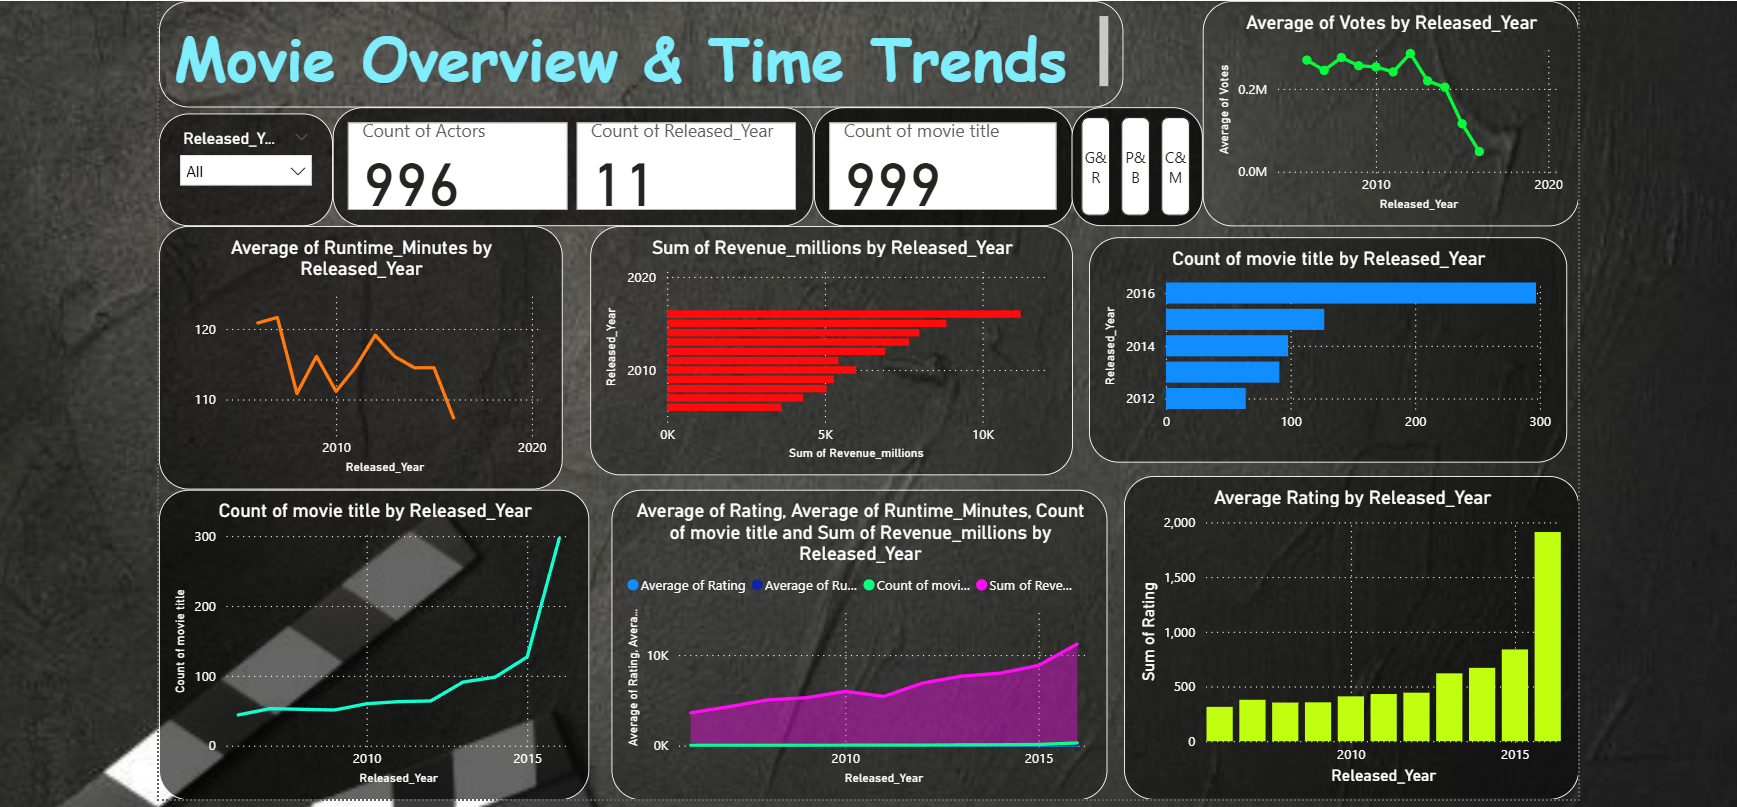

The dashboard page shown, as its layout file describes it:
{"tool":"powerbi","page":{"name":"OT","canvas":[1280,720],"ordinal":0},"visuals":[{"type":"lineChart","fields":{"Category":["IMDB-Movie-Data.Released_Year"],"Y":["Count(IMDB-Movie-Data.Title)"]},"box":[0,440.5,388.3,279.9],"z":0},{"type":"barChart","fields":{"Y":["Sum(IMDB-Movie-Data.Revenue_millions)"],"Category":["IMDB-Movie-Data.Released_Year"]},"box":[388.3,203.1,435,225],"z":1000},{"type":"columnChart","title":"Average Rating by Released_Year","fields":{"Y":["Sum(IMDB-Movie-Data.Rating)"],"Category":["IMDB-Movie-Data.Released_Year"]},"box":[870,428.1,410.3,292.3],"z":2000},{"type":"lineChart","fields":{"Y":["Avg(IMDB-Movie-Data.Runtime_Minutes)"],"Category":["IMDB-Movie-Data.Released_Year"]},"box":[0,203.1,363.6,237.4],"z":3000},{"type":"barChart","fields":{"Y":["CountNonNull(IMDB-Movie-Data.movie title)"],"Category":["IMDB-Movie-Data.Released_Year"]},"box":[838.4,212.7,430.9,203.1],"z":4000},{"type":"lineChart","fields":{"Y":["Avg(IMDB-Movie-Data.Votes)"],"Category":["IMDB-Movie-Data.Released_Year"]},"box":[941.3,0,338.9,203.1],"z":5000},{"type":"lineChart","fields":{"Category":["IMDB-Movie-Data.Released_Year"],"Y":["Avg(IMDB-Movie-Data.Rating)","Avg(IMDB-Movie-Data.Runtime_Minutes)","CountNonNull(IMDB-Movie-Data.movie title)","Sum(IMDB-Movie-Data.Revenue_millions)"]},"box":[407.5,440.5,447.3,279.9],"z":6000},{"type":"slicer","fields":{"Values":["IMDB-Movie-Data.Released_Year"]},"box":[0,101.5,156.4,101.5],"z":7000},{"type":"cardVisual","fields":{"Data":["Count(IMDB-Movie-Data.movie title)"]},"box":[590.1,96.1,233.3,107],"z":8000},{"type":"cardVisual","fields":{"Data":["Count(IMDB-Movie-Data.Actors)","Count(IMDB-Movie-Data.Released_Year)"]},"box":[156.4,96.1,433.6,107],"z":9000},{"type":"textbox","box":[0,0,870,96.1],"z":10000},{"type":"pageNavigator","box":[823.3,96.1,118,107],"z":11000}]}

Visuals, with their boxes on the page's 1280x720 design canvas (x1, y1, x2, y2). These are canvas units, not pixel positions in the 1737x807 screenshot, which may show the page scaled, cropped or inside an application window:
lineChart - IMDB-Movie-Data.Released_Year x Count(IMDB-Movie-Data.Title): region(0, 440, 388, 720)
barChart - Sum(IMDB-Movie-Data.Revenue_millions) x IMDB-Movie-Data.Released_Year: region(388, 203, 823, 428)
"Average Rating by Released_Year" columnChart: region(870, 428, 1280, 720)
lineChart - Avg(IMDB-Movie-Data.Runtime_Minutes) x IMDB-Movie-Data.Released_Year: region(0, 203, 364, 440)
barChart - CountNonNull(IMDB-Movie-Data.movie title) x IMDB-Movie-Data.Released_Year: region(838, 213, 1269, 416)
lineChart - Avg(IMDB-Movie-Data.Votes) x IMDB-Movie-Data.Released_Year: region(941, 0, 1280, 203)
lineChart - IMDB-Movie-Data.Released_Year x Avg(IMDB-Movie-Data.Rating): region(408, 440, 855, 720)
slicer - IMDB-Movie-Data.Released_Year: region(0, 102, 156, 203)
cardVisual - Count(IMDB-Movie-Data.movie title): region(590, 96, 823, 203)
cardVisual - Count(IMDB-Movie-Data.Actors) x Count(IMDB-Movie-Data.Released_Year): region(156, 96, 590, 203)
textbox: region(0, 0, 870, 96)
pageNavigator: region(823, 96, 941, 203)
